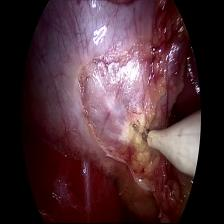Hook: (130, 111, 204, 178)
